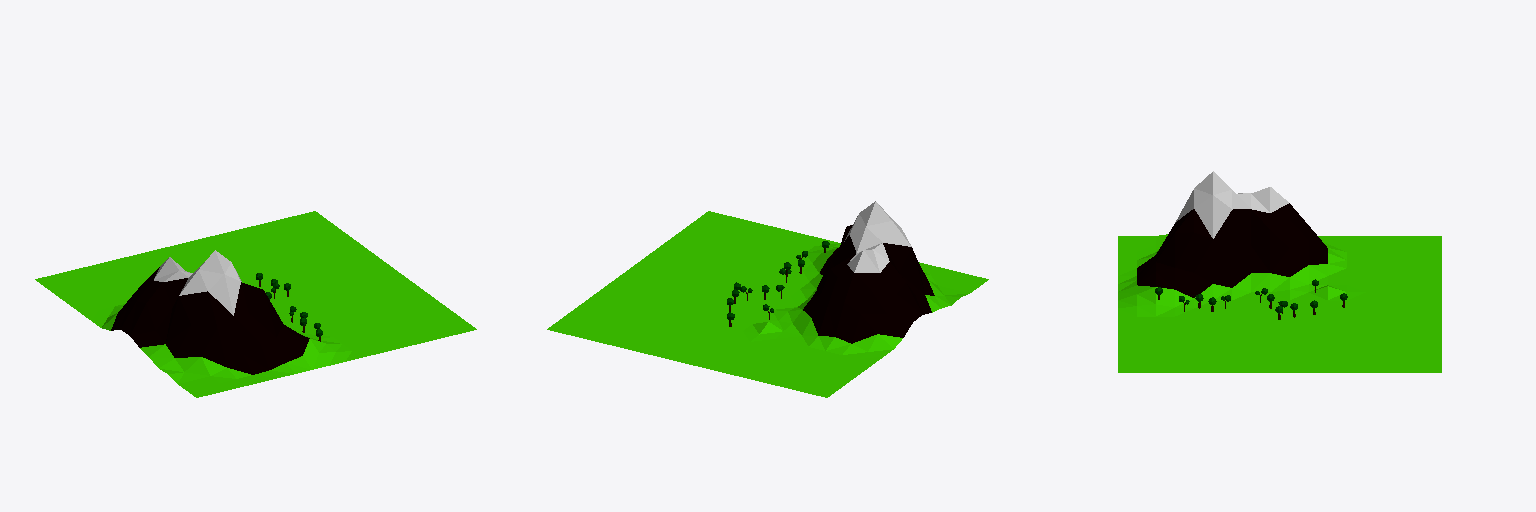
File: mountain.obj
3 renders of one model, left to right at view 1: azimuth 30°, elevation 25°; view 2: azimuth 150°, elevation 25°; view 3: azimuth 270°, elevation 25°, orthographic.
Visible parts, largest first — view 1: 平面; view 2: 平面; view 3: 平面.
Boxes of the visible parts, x1,y1,x2,y2 form: 平面: [35, 211, 476, 397]; 平面: [547, 201, 988, 397]; 平面: [1118, 171, 1441, 372].
Size of the model in its own units: 16 by 5.3 by 16.